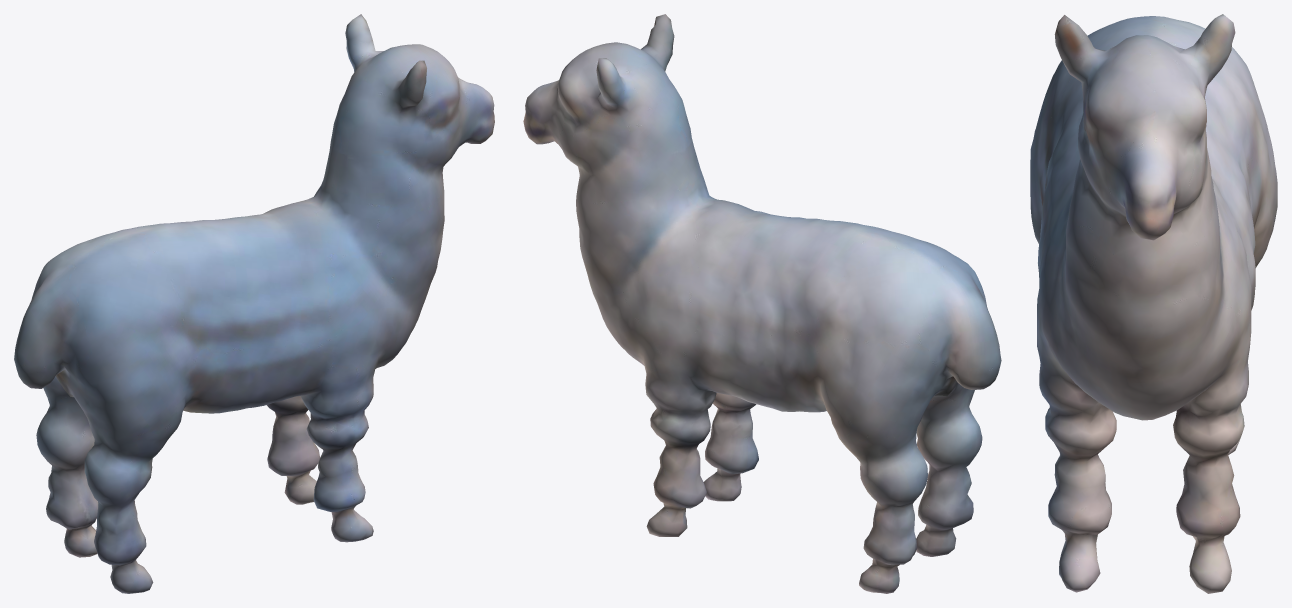
File: an alpaca.fbx
The picture shows the model from 3 angles, left to right: view 1: azimuth 30°, elevation 25°; view 2: azimuth 150°, elevation 25°; view 3: azimuth 270°, elevation 25°; orthographic projection. The views are drawn at different scales.
Parts seen in each view (by area): view 1: Mesh1; view 2: Mesh1; view 3: Mesh1.
Boxes of the visible parts, x1=… form: Mesh1: x1=14, y1=14, x2=494, y2=593; Mesh1: x1=523, y1=14, x2=1001, y2=593; Mesh1: x1=1030, y1=14, x2=1277, y2=593.
Bounding box in the file's own units: 120 × 113 × 41.65.
1 material, 1 textured.
